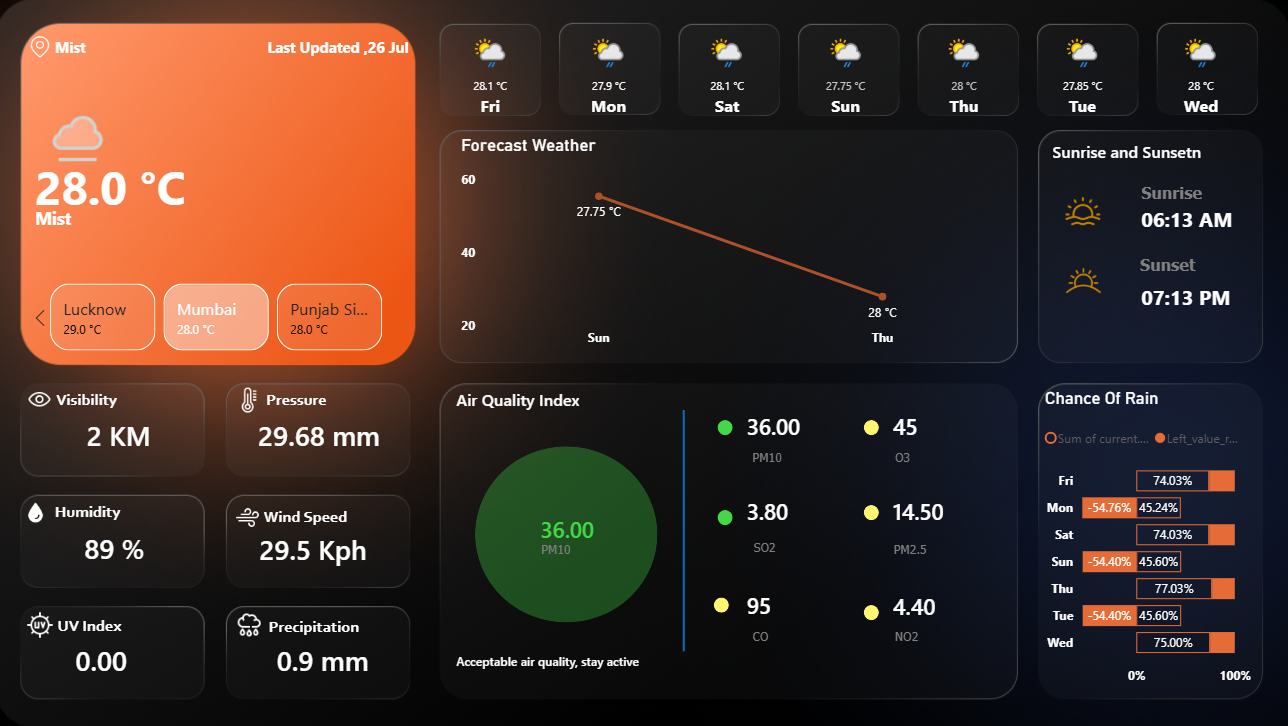

This screenshot's page, from the dashboard's own definition file:
{"tool":"powerbi","page":{"name":"Page 1","canvas":[1280,720],"ordinal":0},"visuals":[{"type":"shape","box":[474.1,440.7,180.2,174.1],"z":0},{"type":"advancedSlicerVisual","fields":{"Values":["Locations.location.name"]},"box":[29.6,275.3,379,76.5],"z":1000},{"type":"shape","box":[39.5,149.4,180.2,67.9],"z":2000},{"type":"shape","box":[39.5,197.5,180.2,35.8],"z":3000},{"type":"shape","box":[59.3,28.4,160.5,35.8],"z":4000},{"type":"shape","box":[239.5,28.4,169.1,35.8],"z":5000},{"type":"image","box":[29.6,35.8,29.6,21],"z":6000},{"type":"cardVisual","fields":{"Data":["Min(Current.current.condition.icon)"]},"box":[29.6,8.6,261.7,175.3],"z":7000},{"type":"image","box":[24.7,381.5,38.3,25.9],"z":8000},{"type":"shape","box":[60.5,379,80.2,30.9],"z":9000},{"type":"image","box":[29.6,495.1,21,22.2],"z":10000},{"type":"shape","box":[59.3,490.1,80.2,30.9],"z":11000},{"type":"shape","box":[267.9,379,80.2,30.9],"z":12000},{"type":"shape","box":[265.4,495.1,85.2,30.9],"z":13000},{"type":"shape","box":[61.7,602.5,80.2,30.9],"z":14000},{"type":"shape","box":[270.4,603.7,92.6,30.9],"z":15000},{"type":"image","box":[14.8,603.7,59.3,27.2],"z":16000},{"type":"image","box":[237,382.7,28.4,24.7],"z":17000},{"type":"image","box":[237,602.5,28.4,29.6],"z":18000},{"type":"image","box":[233.3,498.8,32.1,24.7],"z":19000},{"type":"cardVisual","fields":{"Data":["_Measures.Humidity"]},"box":[59.3,506.2,124.7,67.9],"z":20000},{"type":"cardVisual","fields":{"Data":["_Measures.Wind_Speed"]},"box":[232.1,503.7,186.4,75.3],"z":21000},{"type":"cardVisual","fields":{"Data":["_Measures.Pressure"]},"box":[230.9,395.1,188.9,67.9],"z":22000},{"type":"cardVisual","fields":{"Data":["Sum(Current.current.uv)"]},"box":[50.6,617.3,124.7,67.9],"z":23000},{"type":"cardVisual","fields":{"Data":["_Measures.Precipitation"]},"box":[249.4,617.3,161.7,67.9],"z":24000},{"type":"cardVisual","fields":{"Data":["_Measures.Visibility"]},"box":[61.7,395.1,122.2,67.9],"z":25000},{"type":"lineChart","title":"Forecast Weather","fields":{"Y":["Sum(Forcast_day_data.forecast.forecastday.day.avgtemp_c)"],"Category":["Forcast_day_data.Day_Name"]},"box":[455.6,133.3,538.3,218.5],"z":26000},{"type":"advancedSlicerVisual","fields":{"Values":["Forcast_day_data.Day_Name"]},"box":[429.6,28.4,827.2,104.9],"z":27000},{"type":"shape","box":[1044.4,133.3,159.3,30.9],"z":28000},{"type":"shape","box":[1132.1,191.4,124.7,49.4],"z":29000},{"type":"shape","box":[1132.1,275.3,100,34.6],"z":30000},{"type":"shape","box":[1130.9,243.2,100,34.6],"z":31000},{"type":"shape","box":[1132.1,171.6,100,37],"z":32000},{"type":"image","box":[1044.4,191.4,60.5,34.6],"z":33000},{"type":"image","box":[1050.6,254.3,49.4,45.7],"z":34000},{"type":"hundredPercentStackedBarChart","title":"Chance Of Rain","fields":{"Category":["Forcast_day_data.Day_Name"],"Y":["Sum(Current.current.chance_of_rain)","_Measures.Left_value_rain"]},"box":[1032.1,382.7,213.6,302.5],"z":35000},{"type":"shape","box":[455.6,379,159.3,30.9],"z":36000},{"type":"shape","box":[748.1,440.7,70.4,22.2],"z":37000},{"type":"shape","box":[888.9,439.5,70.4,23.5],"z":38000},{"type":"shape","box":[749.4,529.6,70.4,22.2],"z":39000},{"type":"shape","box":[748.1,617.3,70.4,22.2],"z":40000},{"type":"shape","box":[888.9,617.3,70.4,22.2],"z":41000},{"type":"shape","box":[887.7,530.9,70.4,22.2],"z":42000},{"type":"cardVisual","fields":{"Data":["Sum(Current.current.air_quality.o3)"]},"box":[858,388.9,129.6,63],"z":43000},{"type":"cardVisual","fields":{"Data":["Sum(Current.current.air_quality.so2)"]},"box":[713.6,472.8,129.6,63],"z":44000},{"type":"cardVisual","fields":{"Data":["Sum(Current.current.air_quality.co)"]},"box":[713.6,565.4,129.6,63],"z":45000},{"type":"cardVisual","fields":{"Data":["Sum(Current.current.air_quality.pm2_5)"]},"box":[858,472.8,129.6,63],"z":46000},{"type":"cardVisual","fields":{"Data":["Sum(Current.current.air_quality.pm10)"]},"box":[713.6,388.9,129.6,63],"z":47000},{"type":"cardVisual","fields":{"Data":["Sum(Current.current.air_quality.no2)"]},"box":[858,566.7,129.6,63],"z":48000},{"type":"shape","box":[713.6,414.8,15,15],"z":49000},{"type":"shape","box":[709.9,590.1,15,15],"z":50000},{"type":"shape","box":[713.6,503.7,15,15],"z":51000},{"type":"shape","box":[858,414.8,15,15],"z":52000},{"type":"shape","box":[858,498.8,15,15],"z":53000},{"type":"shape","box":[858,597.5,15,15],"z":54000},{"type":"shape","box":[612.3,404.9,135.8,238.3],"z":55000},{"type":"cardVisual","fields":{"Data":["Sum(Current.current.air_quality.pm10)"]},"box":[509.9,490.1,129.6,63],"z":56000},{"type":"shape","box":[539.5,530.9,70.4,22.2],"z":57000},{"type":"shape","box":[455.6,630.9,290.1,44.4],"z":57001}]}

Visuals, with their boxes in screenshot pixels (x1, y1, x2, y2), scaled from the page's 1280x720 canvas onto the 1288x726 screenshot:
shape: (left=477, top=444, right=658, bottom=620)
advancedSlicerVisual - Locations.location.name: (left=30, top=278, right=411, bottom=355)
shape: (left=40, top=151, right=221, bottom=219)
shape: (left=40, top=199, right=221, bottom=235)
shape: (left=60, top=29, right=221, bottom=65)
shape: (left=241, top=29, right=411, bottom=65)
image: (left=30, top=36, right=60, bottom=57)
cardVisual - Min(Current.current.condition.icon): (left=30, top=9, right=293, bottom=185)
image: (left=25, top=385, right=63, bottom=411)
shape: (left=61, top=382, right=142, bottom=413)
image: (left=30, top=499, right=51, bottom=522)
shape: (left=60, top=494, right=140, bottom=525)
shape: (left=270, top=382, right=350, bottom=413)
shape: (left=267, top=499, right=353, bottom=530)
shape: (left=62, top=608, right=143, bottom=639)
shape: (left=272, top=609, right=365, bottom=640)
image: (left=15, top=609, right=75, bottom=636)
image: (left=238, top=386, right=267, bottom=411)
image: (left=238, top=608, right=267, bottom=637)
image: (left=235, top=503, right=267, bottom=528)
cardVisual - _Measures.Humidity: (left=60, top=510, right=185, bottom=579)
cardVisual - _Measures.Wind_Speed: (left=234, top=508, right=421, bottom=584)
cardVisual - _Measures.Pressure: (left=232, top=398, right=422, bottom=467)
cardVisual - Sum(Current.current.uv): (left=51, top=622, right=176, bottom=691)
cardVisual - _Measures.Precipitation: (left=251, top=622, right=414, bottom=691)
cardVisual - _Measures.Visibility: (left=62, top=398, right=185, bottom=467)
"Forecast Weather" lineChart: (left=458, top=134, right=1000, bottom=355)
advancedSlicerVisual - Forcast_day_data.Day_Name: (left=432, top=29, right=1265, bottom=134)
shape: (left=1051, top=134, right=1211, bottom=166)
shape: (left=1139, top=193, right=1265, bottom=243)
shape: (left=1139, top=278, right=1240, bottom=312)
shape: (left=1138, top=245, right=1239, bottom=280)
shape: (left=1139, top=173, right=1240, bottom=210)
image: (left=1051, top=193, right=1112, bottom=228)
image: (left=1057, top=256, right=1107, bottom=302)
"Chance Of Rain" hundredPercentStackedBarChart: (left=1039, top=386, right=1253, bottom=691)
shape: (left=458, top=382, right=619, bottom=413)
shape: (left=753, top=444, right=824, bottom=467)
shape: (left=894, top=443, right=965, bottom=467)
shape: (left=754, top=534, right=825, bottom=556)
shape: (left=753, top=622, right=824, bottom=645)
shape: (left=894, top=622, right=965, bottom=645)
shape: (left=893, top=535, right=964, bottom=558)
cardVisual - Sum(Current.current.air_quality.o3): (left=863, top=392, right=994, bottom=456)
cardVisual - Sum(Current.current.air_quality.so2): (left=718, top=477, right=848, bottom=540)
cardVisual - Sum(Current.current.air_quality.co): (left=718, top=570, right=848, bottom=634)
cardVisual - Sum(Current.current.air_quality.pm2_5): (left=863, top=477, right=994, bottom=540)
cardVisual - Sum(Current.current.air_quality.pm10): (left=718, top=392, right=848, bottom=456)
cardVisual - Sum(Current.current.air_quality.no2): (left=863, top=571, right=994, bottom=635)
shape: (left=718, top=418, right=733, bottom=433)
shape: (left=714, top=595, right=729, bottom=610)
shape: (left=718, top=508, right=733, bottom=523)
shape: (left=863, top=418, right=878, bottom=433)
shape: (left=863, top=503, right=878, bottom=518)
shape: (left=863, top=602, right=878, bottom=618)
shape: (left=616, top=408, right=753, bottom=649)
cardVisual - Sum(Current.current.air_quality.pm10): (left=513, top=494, right=643, bottom=558)
shape: (left=543, top=535, right=614, bottom=558)
shape: (left=458, top=636, right=750, bottom=681)
